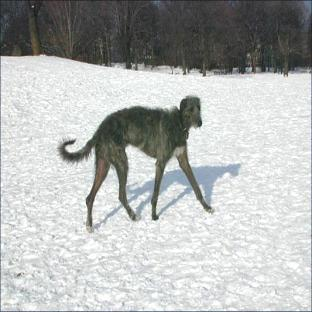Animal: (58, 95, 212, 231)
